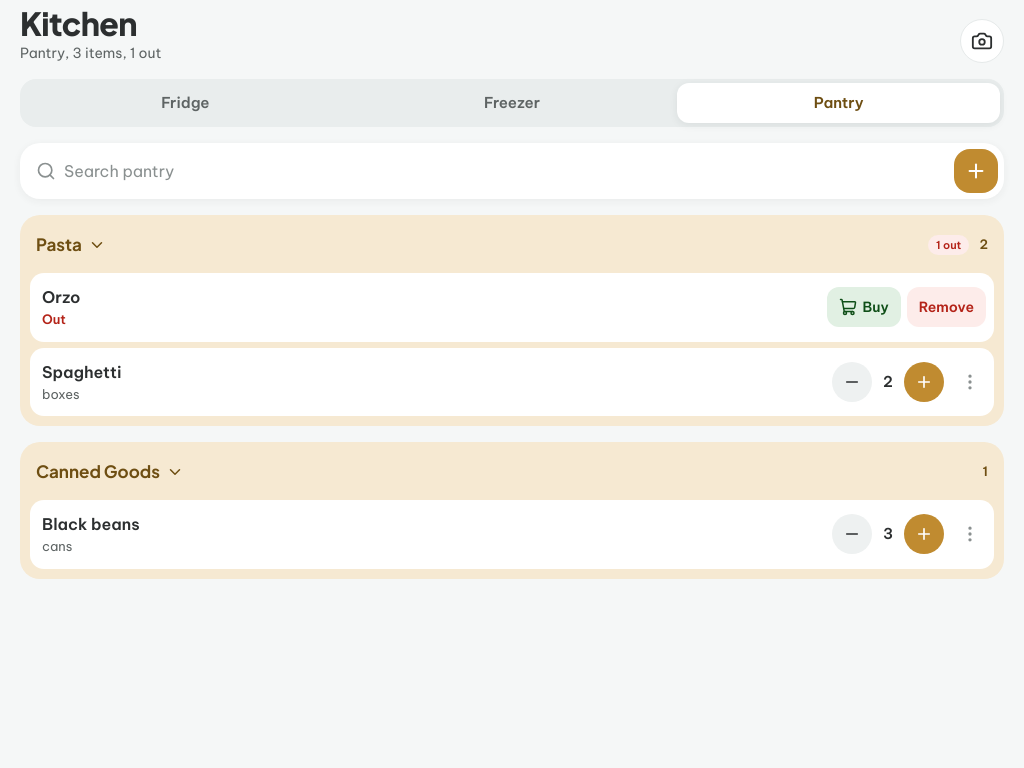
Test case: Kitchen › the add button opens a sheet for this location
Check: the text "Spaghetti" is shown, box [42,362,122,382]
Click the button named "Add a pantry item" at (976, 171), box [954,149,998,193]
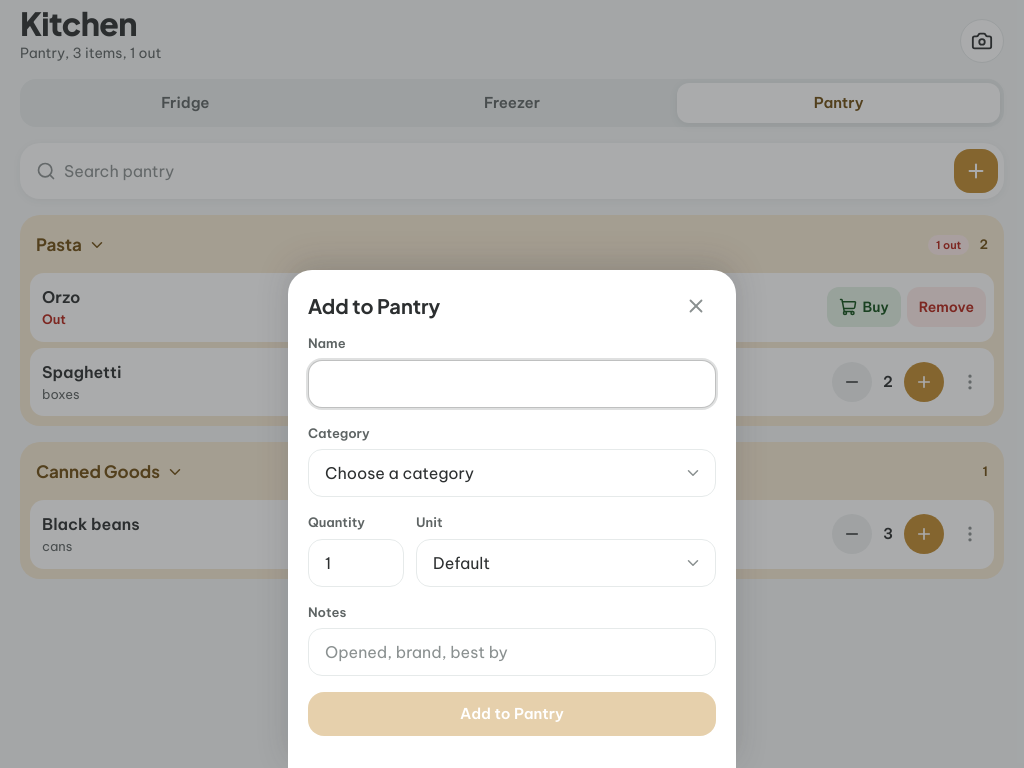
Check: the dropdown labelled "Category" is shown, box [308,449,716,497]
